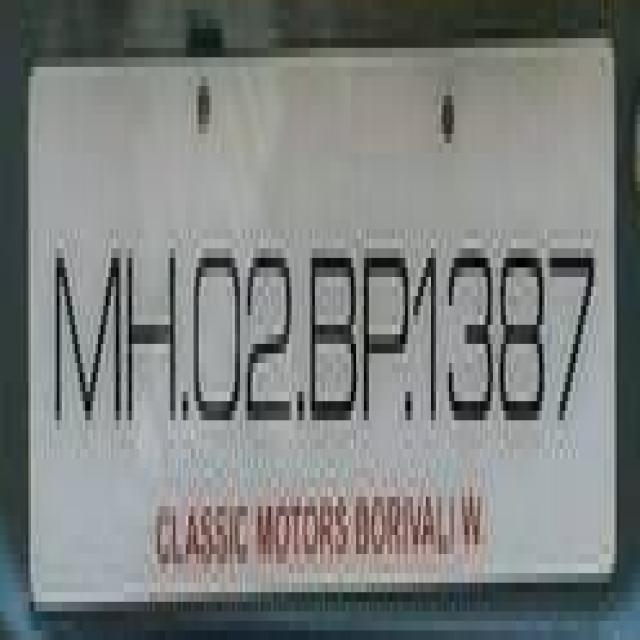license_plate: (31, 19, 632, 592)
